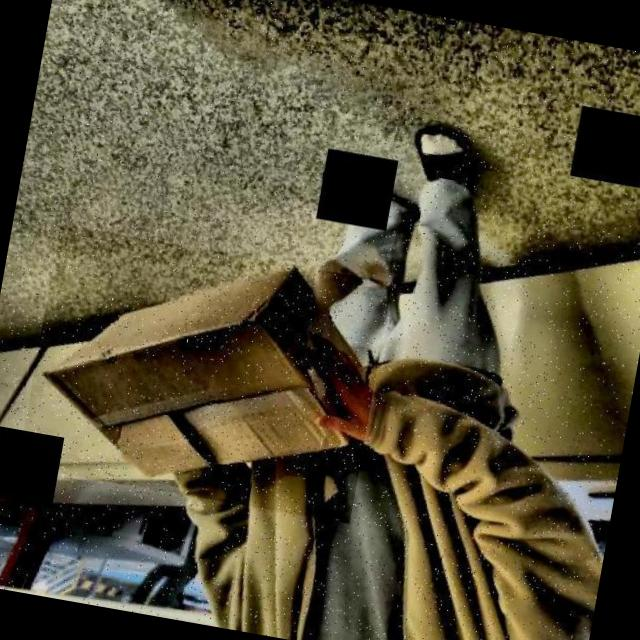box: (17, 223, 392, 524)
